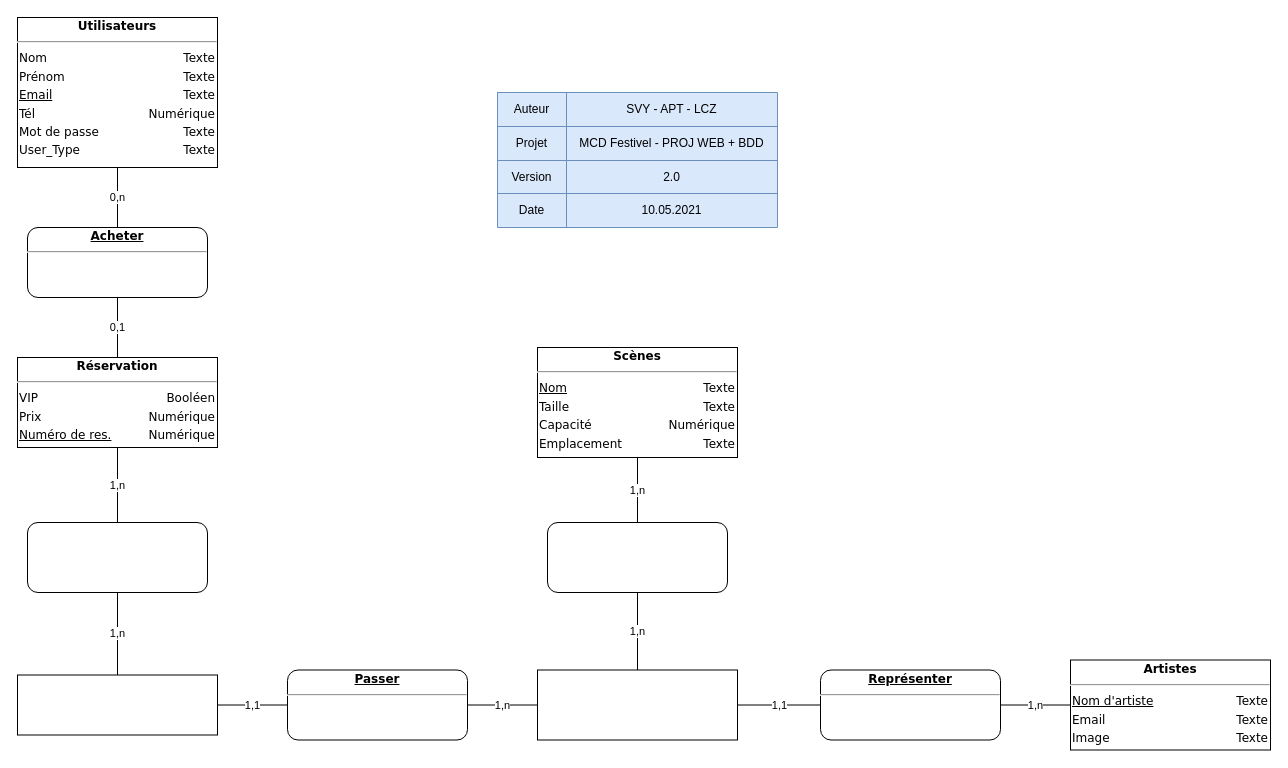
The diagram is 1288 pixels wide and 768 high, and some of its shapes have lost their labels. The centre of each missing label's shape, as x and y in pixels:
"Concerts Heure de début Texte Heure de fin Texte" belongs at (x=637, y=704).
"Correspondre" belongs at (x=117, y=557).
"Dérouler" belongs at (x=637, y=557).
"Jours Date Date" belongs at (x=117, y=704).
